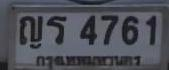1: (145, 15, 155, 44)
4: (79, 14, 96, 44)
6: (121, 15, 137, 44)
7: (100, 14, 117, 44)
A13: (19, 15, 42, 44)
A35: (46, 15, 66, 44)
BKK: (33, 52, 142, 70)
